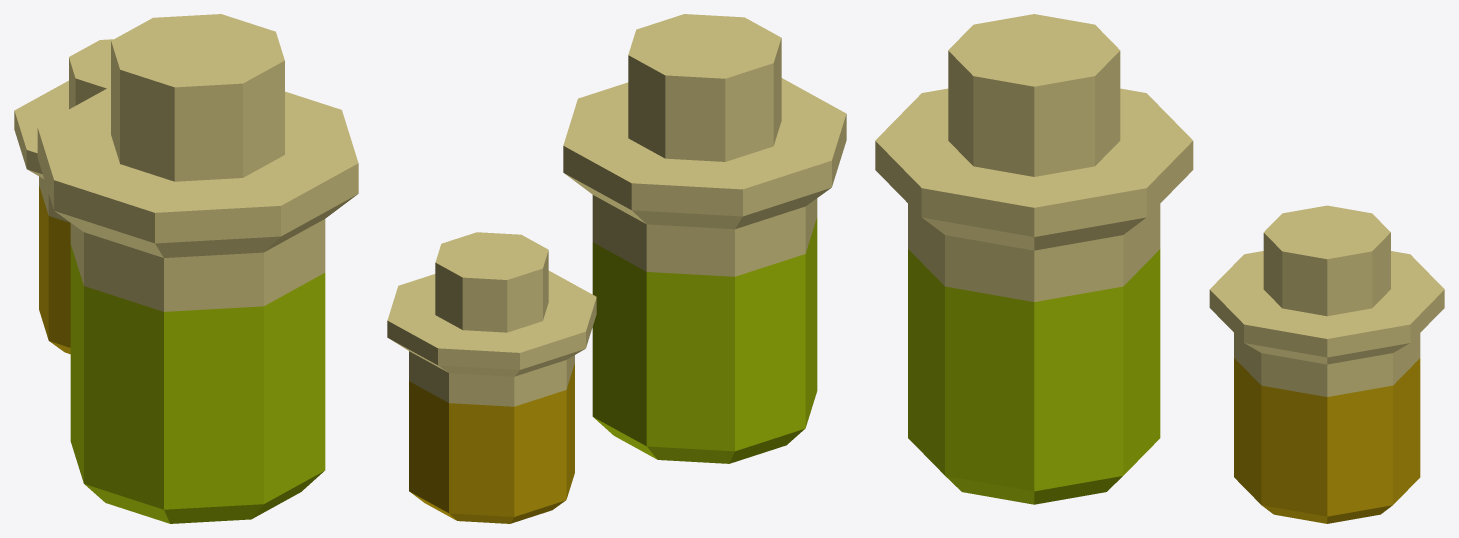
The model's file is augur bottle2.fbx.
3 views of the same model, side by side, from view 1: azimuth 30°, elevation 25°; view 2: azimuth 150°, elevation 25°; view 3: azimuth 270°, elevation 25° (orthographic). The views are drawn at different scales.
Visible parts, largest first — view 1: augur bottle2; view 2: augur bottle2; view 3: augur bottle2.
Part boxes in pixels (bbox=[...]): augur bottle2: bbox=[14, 14, 358, 523]; augur bottle2: bbox=[387, 14, 846, 523]; augur bottle2: bbox=[875, 14, 1444, 523].
Bounding box in the file's own units: 36.43 × 44.2 × 55.48.
